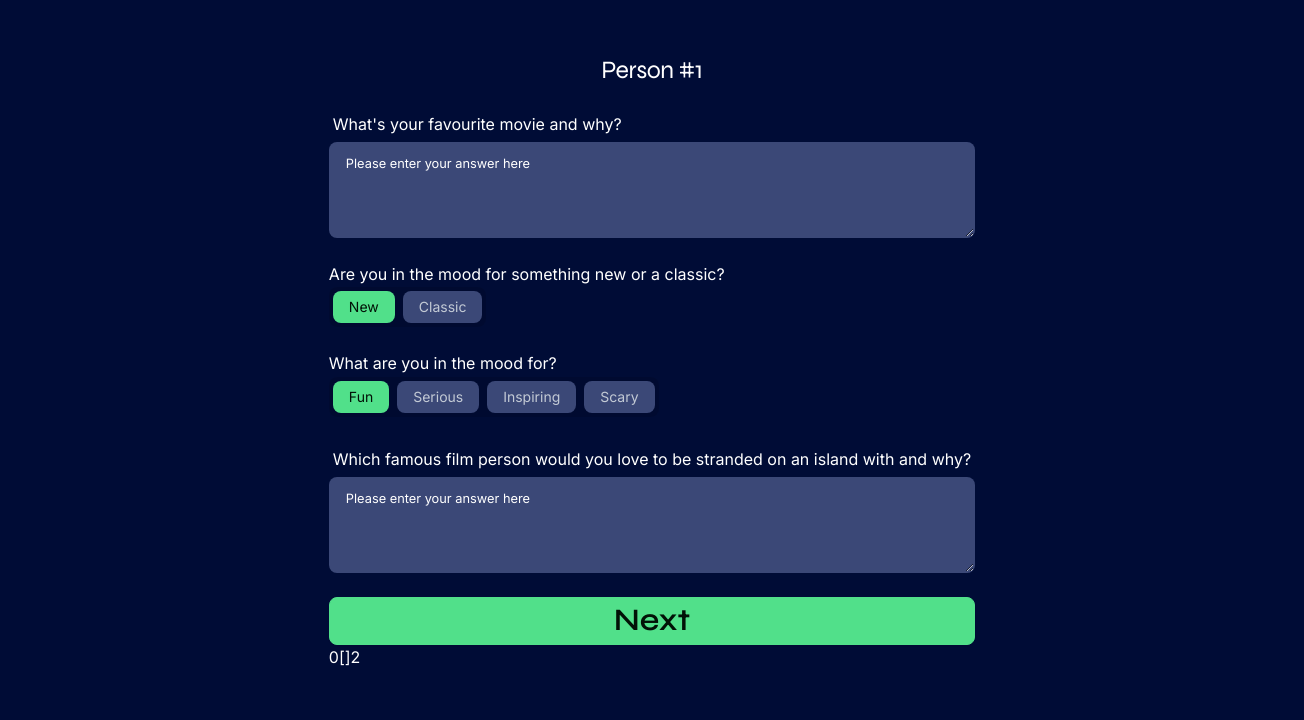
MovieFormClient integration › accumulates participant data across steps, resets the form, and only navigates after the last participant
This screenshot has width=1304, height=720.
Type "I love practical action movies with huge set pieces." into the text box labelled "What's your favourite movie and why?".
click(652, 190); type("I love practical action movies with huge set pieces.")  # box [329,142,975,238]
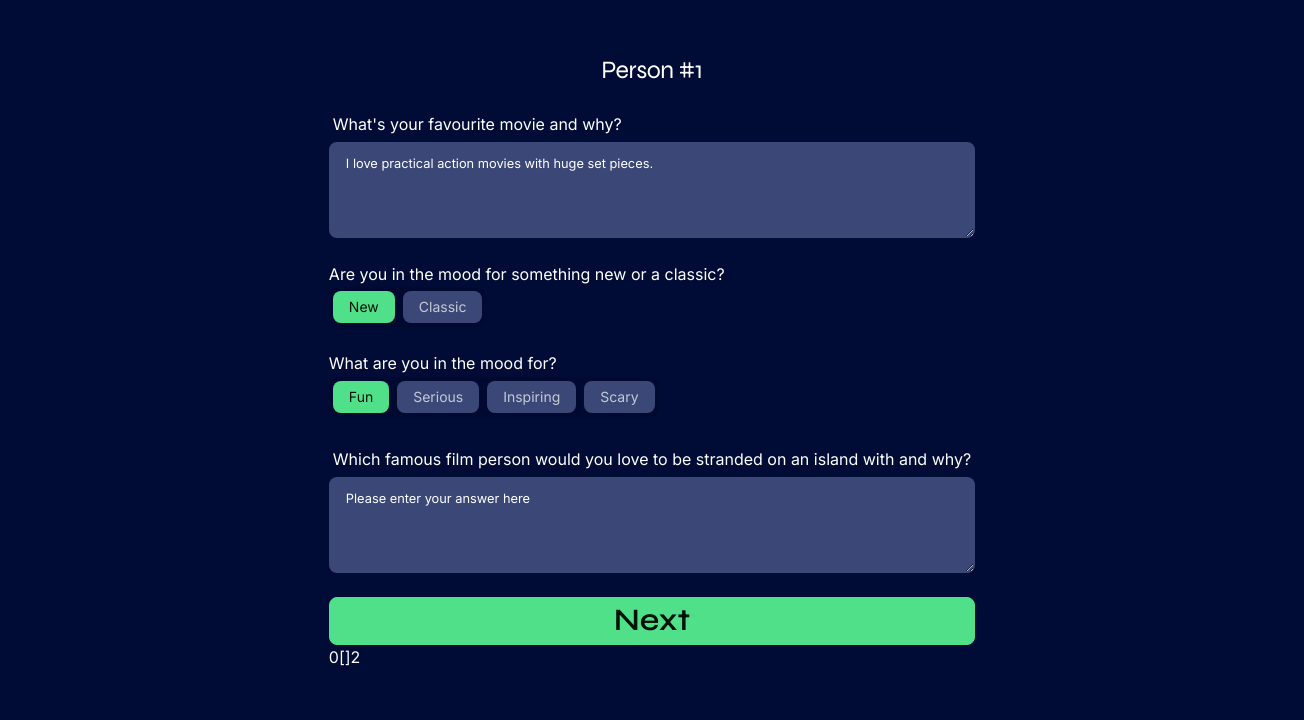
Type "George Miller" into the text box labelled "Which famous film person would you love to be stranded on an island with".
click(652, 525); type("George Miller")  # box [329,477,975,573]
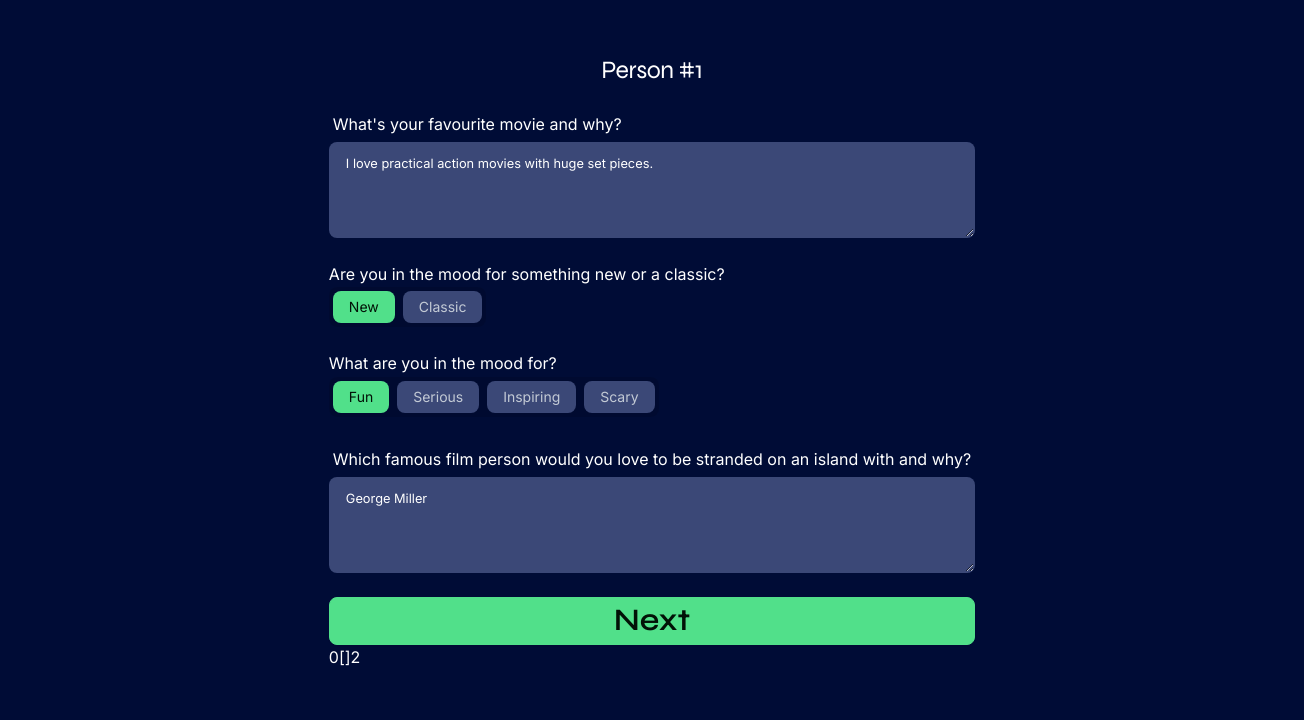
Click the button "Next".
click(652, 621)  # box [329,597,975,645]
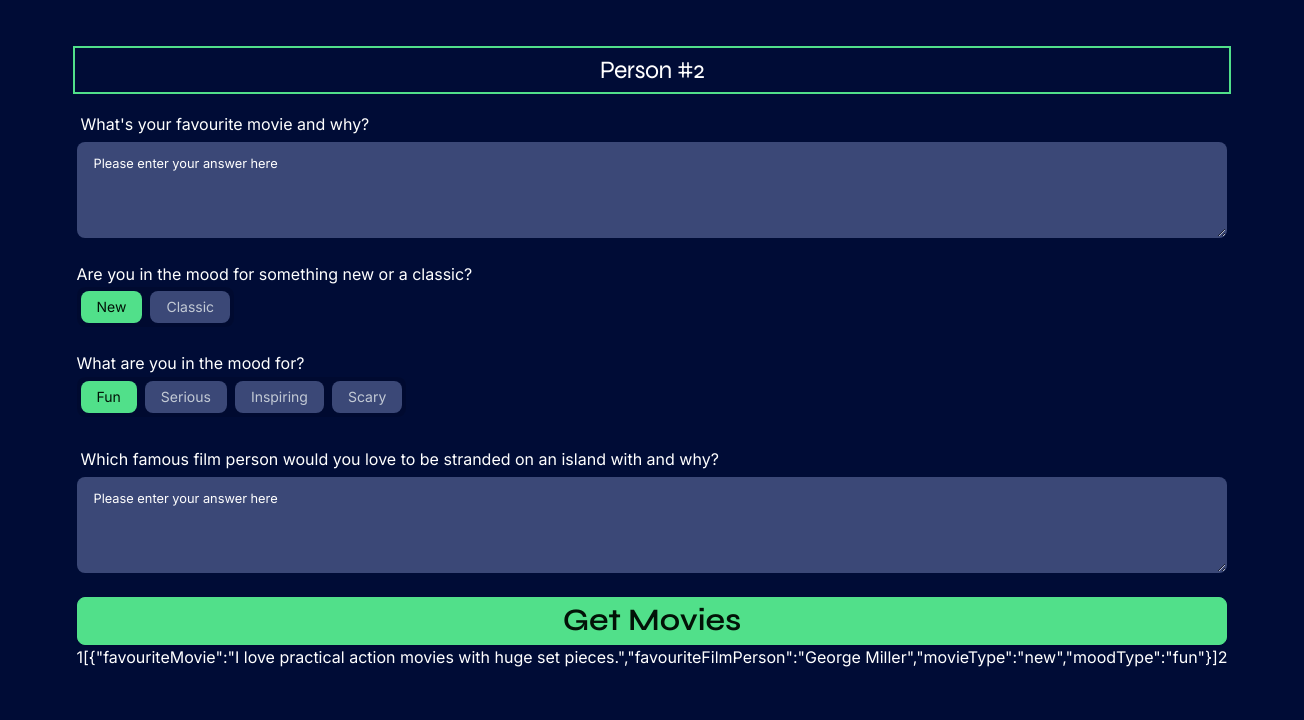
Result: the heading "Person #2" is shown at [600,55,704,85]
Result: the text with test id "participants-count" reads "1" at [76,647,83,667]
Result: the text with test id "participants-json" shows "I love practical action movies with huge set pieces." at [83,647,1218,667]
Type "I want something cosy and funny for the second pick." into the text box labelled "What's your favourite movie and why?".
click(652, 190); type("I want something cosy and funny for the second pick.")  # box [76,142,1228,238]
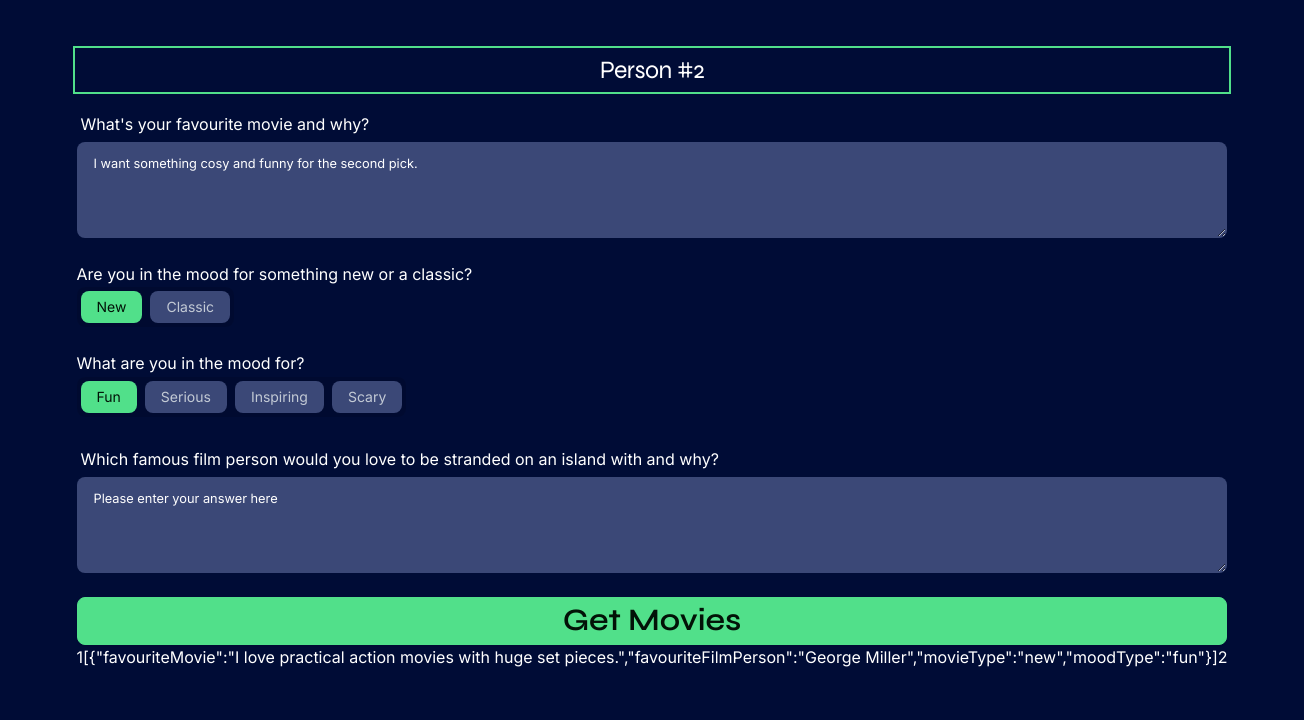
Type "Olivia Colman" into the text box labelled "Which famous film person would you love to be stranded on an island with".
click(652, 525); type("Olivia Colman")  # box [76,477,1228,573]
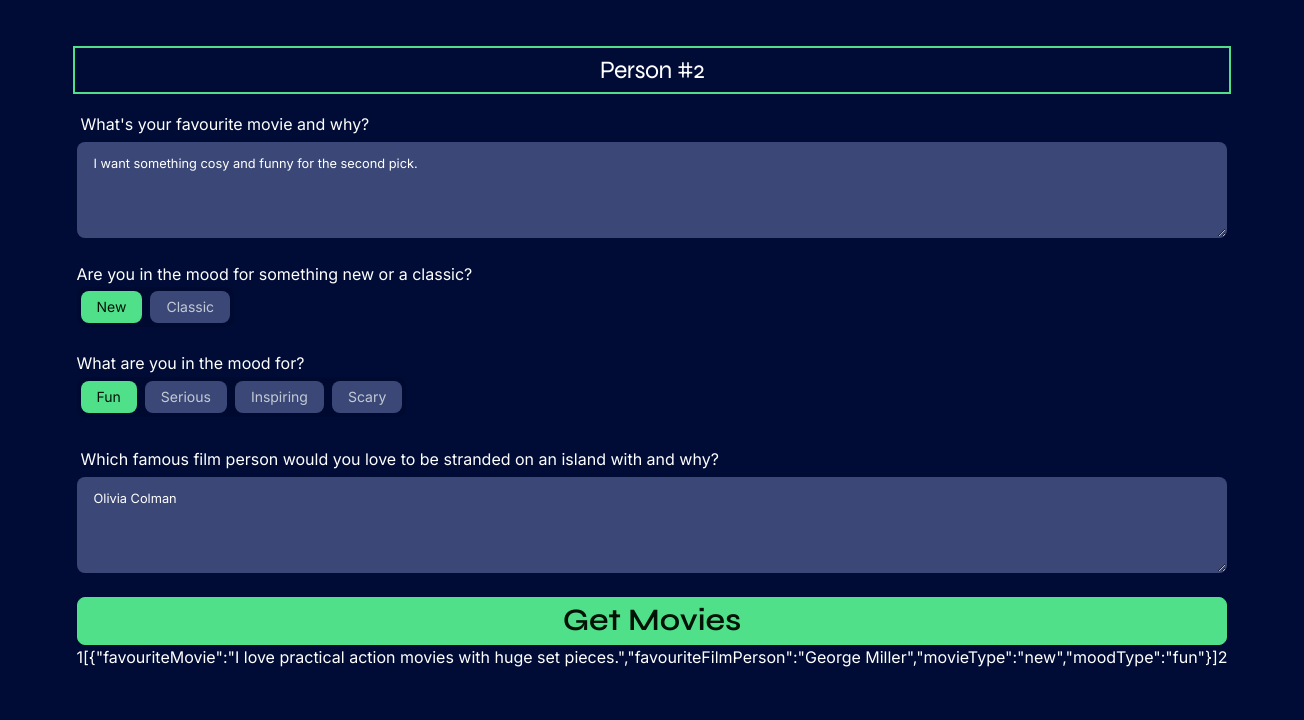
Click the button "Get Movies".
click(652, 621)  # box [76,597,1228,645]
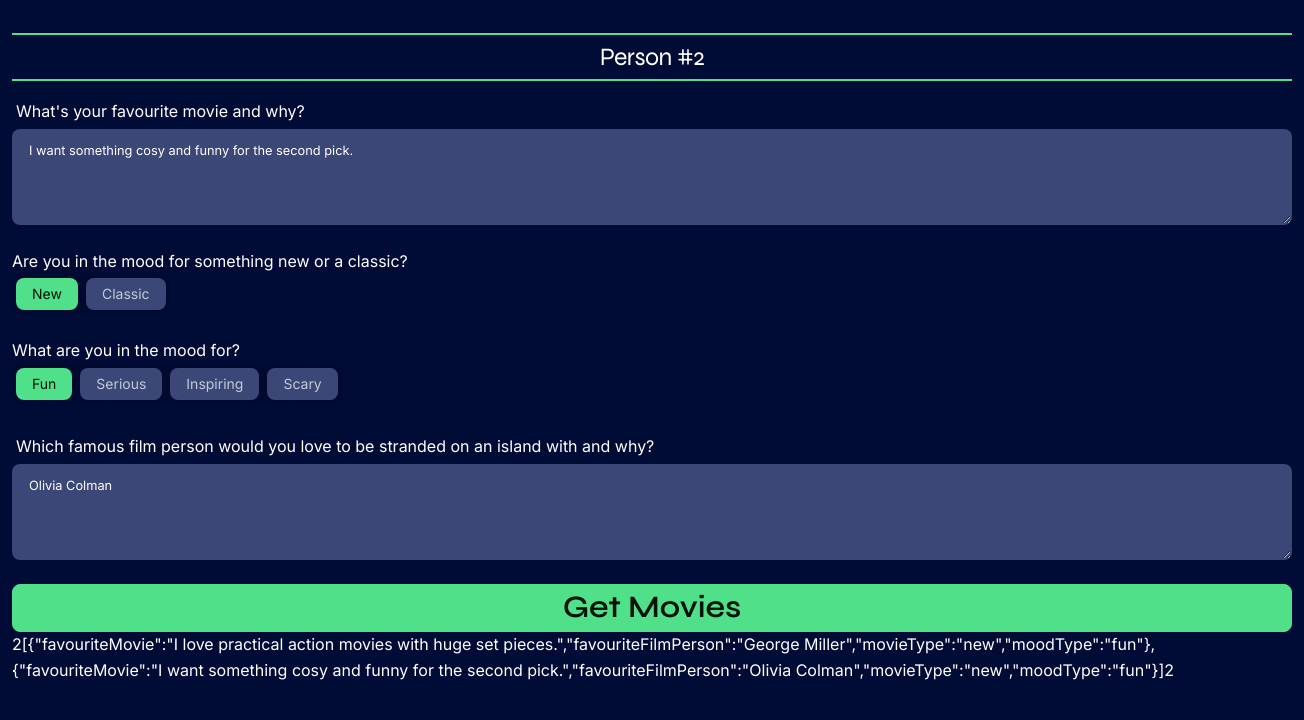
Result: the text with test id "participants-json" shows "I love practical action movies with huge set pieces." at [12,634,1164,680]
Result: the text with test id "participants-count" reads "2" at [12,634,22,654]
Result: the text with test id "participants-json" shows "I want something cosy and funny for the second pick." at [12,634,1164,680]
